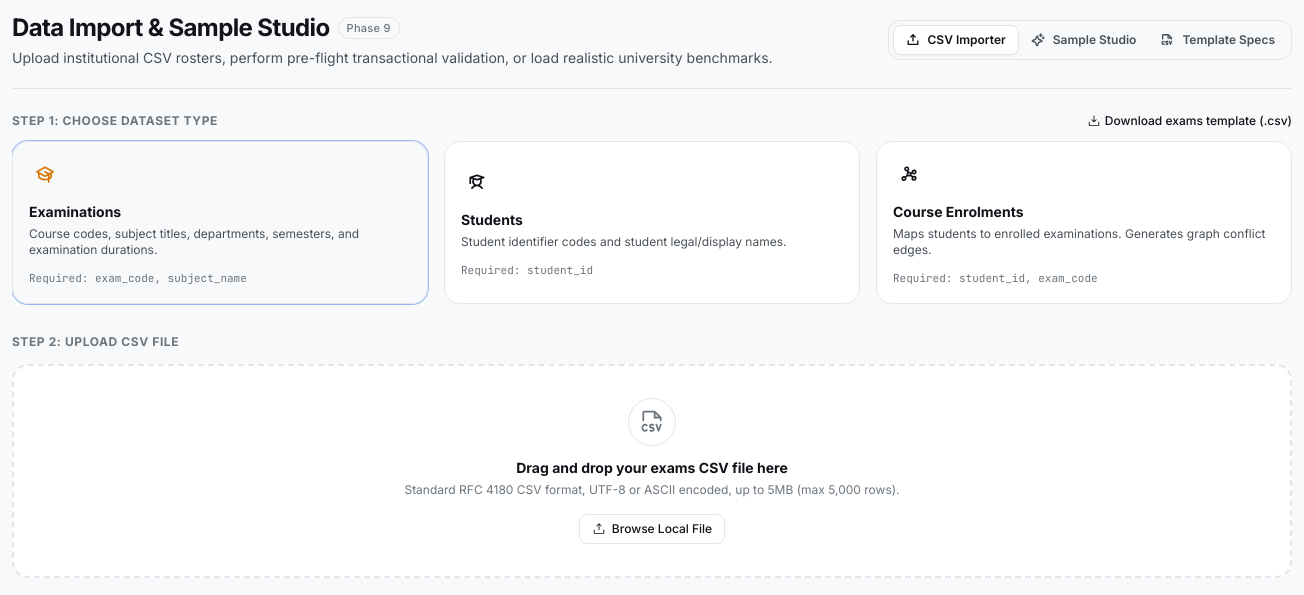
Test: Phase 9: Data Import & Sample Dataset Studio UI › allows switching dataset type to students or enrolments
Click the button "Students" at (492, 220), box [444,141,860,304]
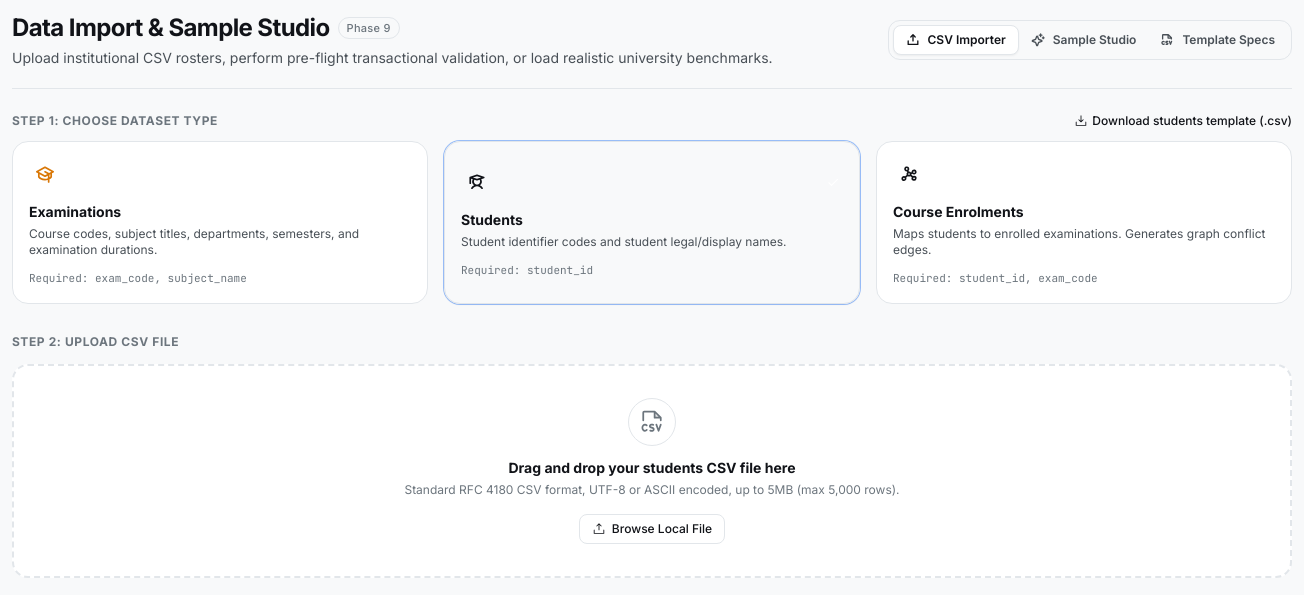
Result: the heading "Drag and drop your students CSV file here" is shown at [508,458,796,476]
